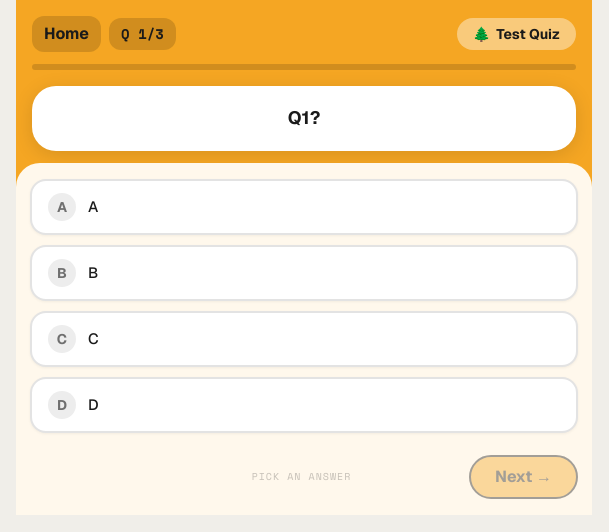
Test: QuizPlayer › Next advances only after an answer, without waiting for auto-advance
Expected: the button "Next →" is disabled, [469,455,578,499]
Step 1. Click the button with test id "option" → (62, 273), box [30,245,578,301]
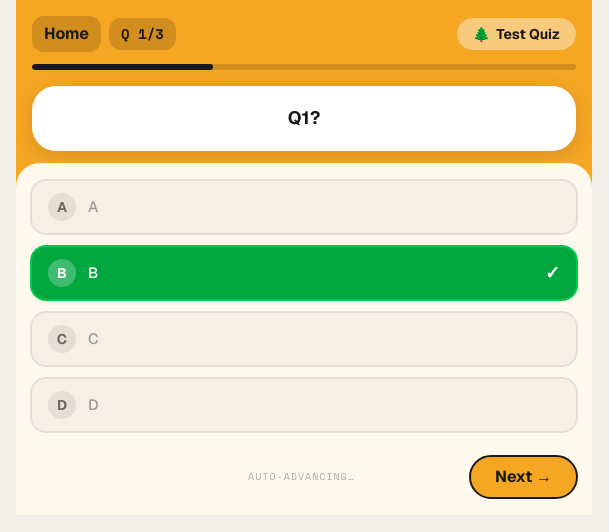
Now the button "Next →" is enabled
Step 2. Click the button "Next →" → (524, 477), box [469,455,578,499]
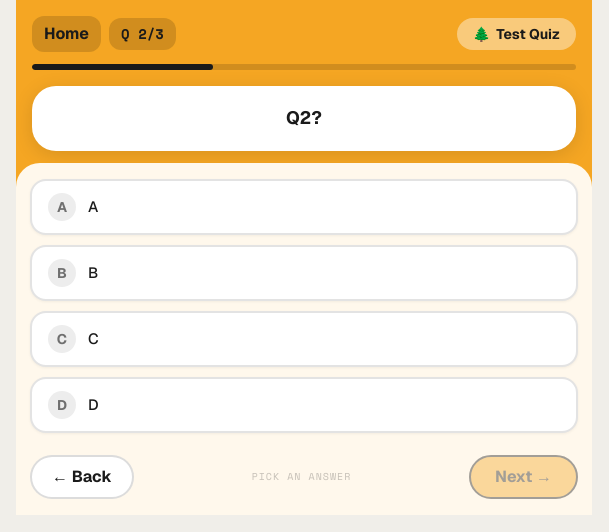
Expected: the heading "Q2?" is shown, [286,106,322,129]
Now the text "Q 2/3" is shown, box [109,18,176,50]
